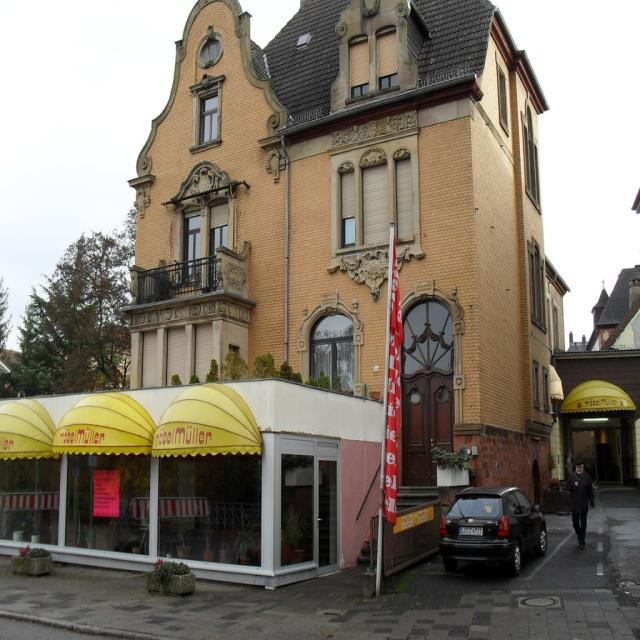car: (439, 485, 540, 578)
